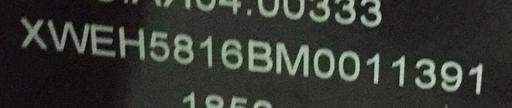letter: (274, 40, 312, 80), (48, 18, 88, 55), (168, 29, 198, 65), (245, 39, 275, 75), (115, 24, 145, 59), (89, 21, 117, 57), (412, 52, 438, 89), (462, 56, 488, 93), (218, 35, 244, 71), (337, 48, 363, 82), (310, 44, 334, 80), (387, 52, 411, 88), (440, 54, 462, 93), (20, 16, 44, 51), (148, 27, 170, 63), (363, 50, 385, 86), (198, 33, 218, 69)
